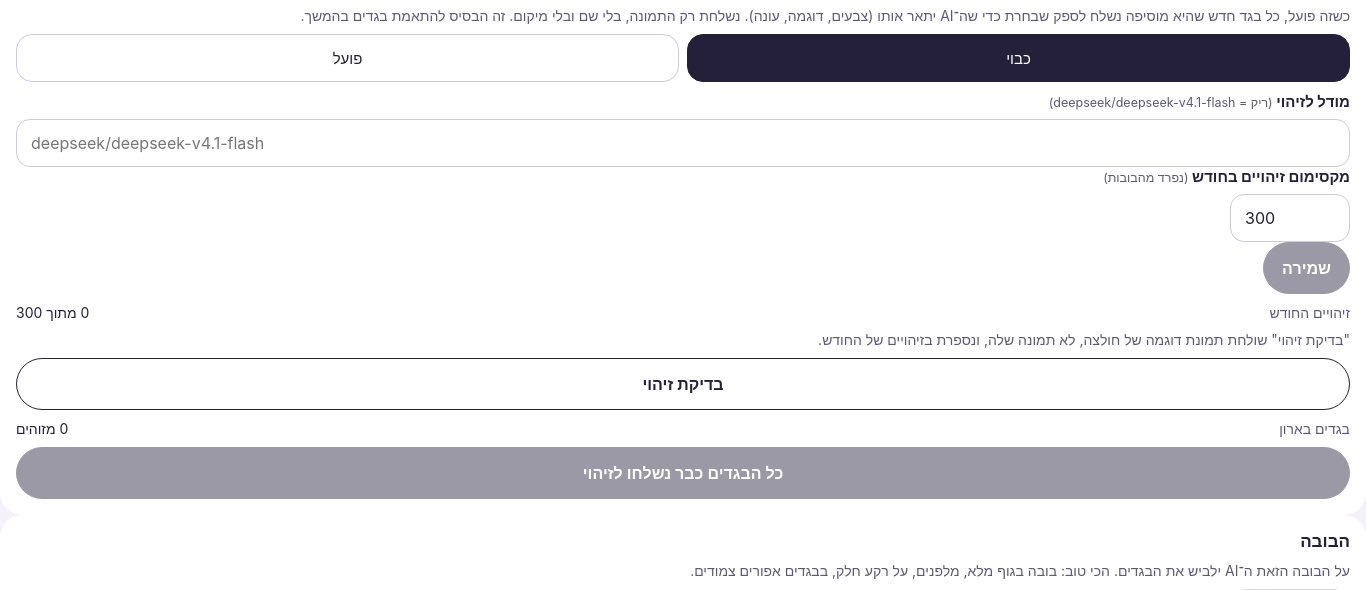
Test: AnalysisPanel › says so when the model saw no garment in the sample
(page scrolled)
Click the button "בדיקת זיהוי".
click(683, 384)  # box [16,358,1350,410]
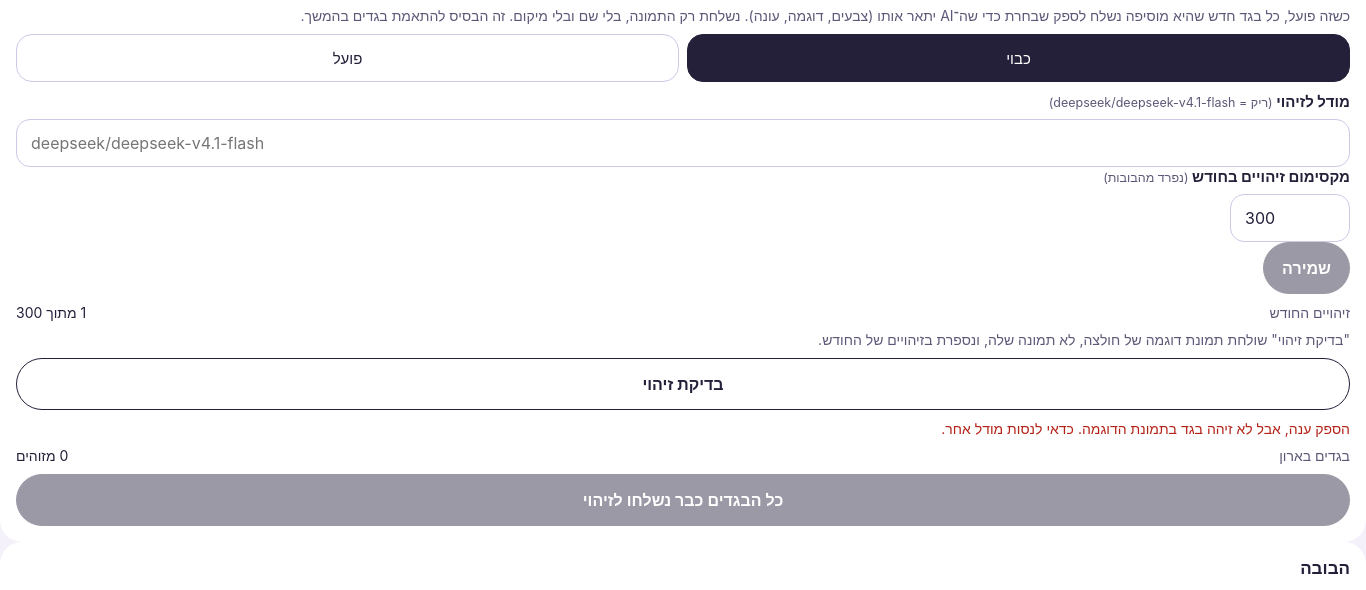
Now the text "הספק ענה, אבל לא זיהה בגד בתמונת הדוגמה. כדאי לנסות מודל אחר." is shown, box [941,420,1350,437]
